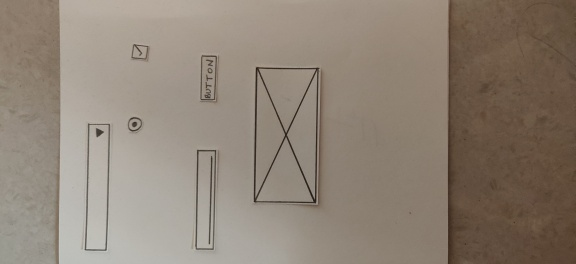button: (198, 53, 217, 102)
checkbox: (83, 123, 109, 258), (130, 44, 150, 61)
img: (252, 65, 322, 210)
radio: (126, 112, 146, 134)
text: (193, 147, 217, 254)
